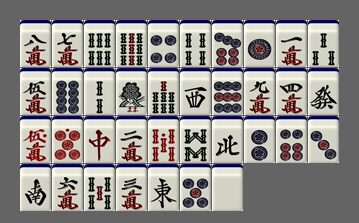0m: (20, 116, 51, 163)
0p: (52, 116, 83, 163)
0s: (148, 116, 179, 163)
1m: (276, 20, 307, 67)
1p: (244, 20, 275, 67)
1s: (116, 68, 147, 115)
1z: (148, 164, 179, 211)
2m: (116, 116, 147, 163)
2p: (244, 116, 275, 163)
2s: (84, 68, 115, 115)
2z: (20, 164, 51, 211)
3m: (116, 164, 147, 211)
3p: (308, 116, 339, 163)
3s: (308, 20, 339, 67)
3z: (180, 68, 211, 115)
4m: (276, 68, 307, 115)
4p: (148, 20, 179, 67)
4s: (180, 20, 211, 67)
4z: (212, 116, 243, 163)
5m: (20, 68, 51, 115)
5p: (180, 164, 211, 211)
5s: (84, 164, 115, 211)
5z: (212, 164, 243, 211)
6m: (52, 164, 83, 211)
6p: (276, 116, 307, 163)
6s: (84, 20, 115, 67)
6z: (308, 68, 339, 115)
7m: (52, 20, 83, 67)
7p: (212, 20, 243, 67)
7s: (148, 68, 179, 115)
7z: (84, 116, 115, 163)
8m: (20, 20, 51, 67)
8p: (52, 68, 83, 115)
8s: (180, 116, 211, 163)
9m: (244, 68, 275, 115)
9p: (212, 68, 243, 115)
9s: (116, 20, 147, 67)
